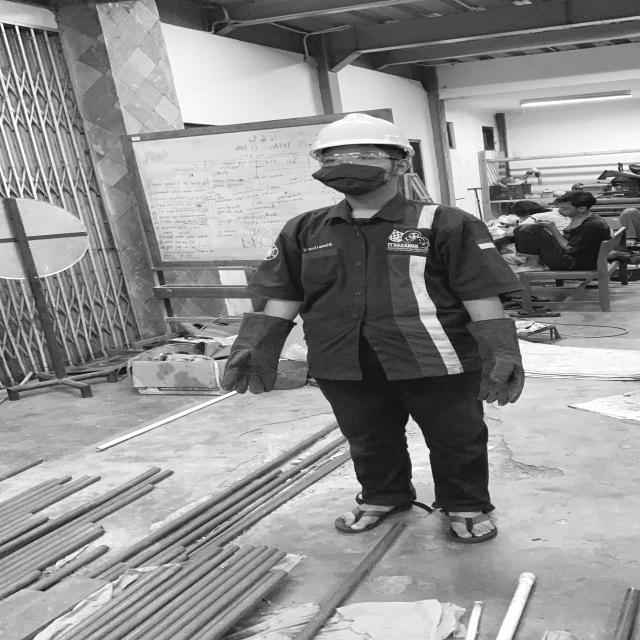face_mask: (310, 148, 396, 194)
glasses: (312, 150, 406, 168)
hand_glove: (212, 342, 291, 398), (469, 352, 534, 408)
head_helmet: (311, 111, 413, 152)
person: (211, 116, 538, 559)
